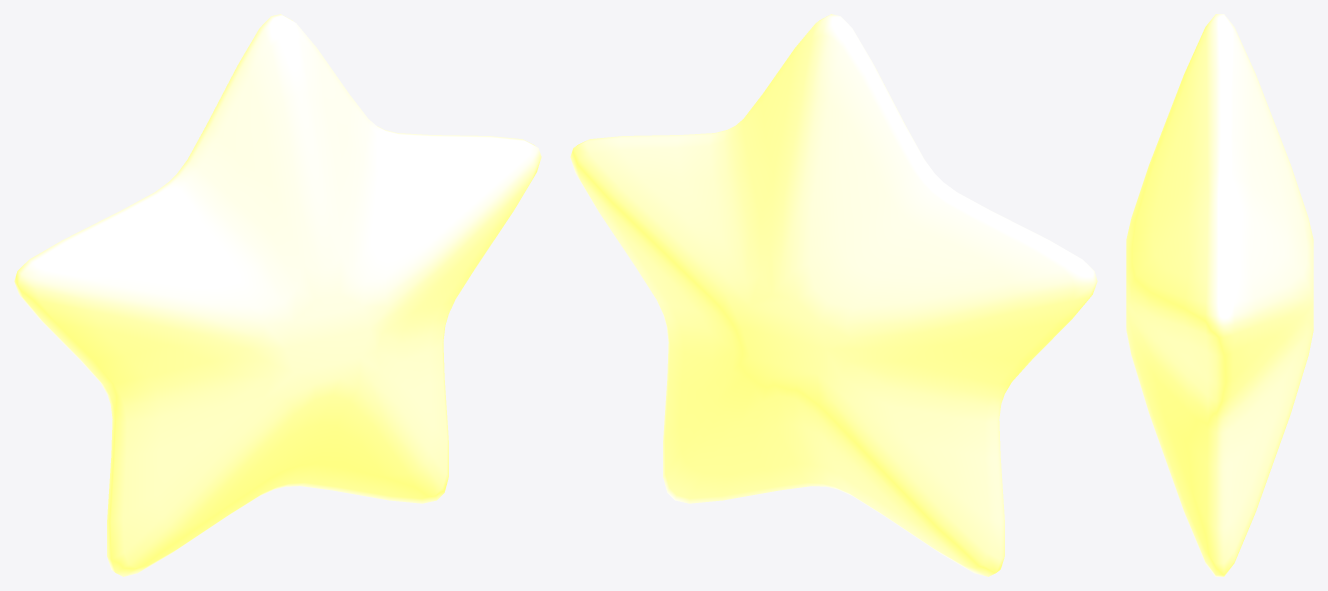
The model's file is 3d_spinning_super_star.glb.
3 renders of one model, left to right at view 1: azimuth 30°, elevation 25°; view 2: azimuth 150°, elevation 25°; view 3: azimuth 270°, elevation 25°, orthographic. The views are drawn at different scales.
Visible parts, largest first — view 1: Cylinder_1; view 2: Cylinder_1; view 3: Cylinder_1.
Boxes of the visible parts, x1,y1,x2,y2 form: Cylinder_1: (14, 14, 541, 576); Cylinder_1: (570, 14, 1097, 576); Cylinder_1: (1126, 14, 1313, 576).
Bounding box in the file's own units: 1.56 × 1.48 × 0.5157.
